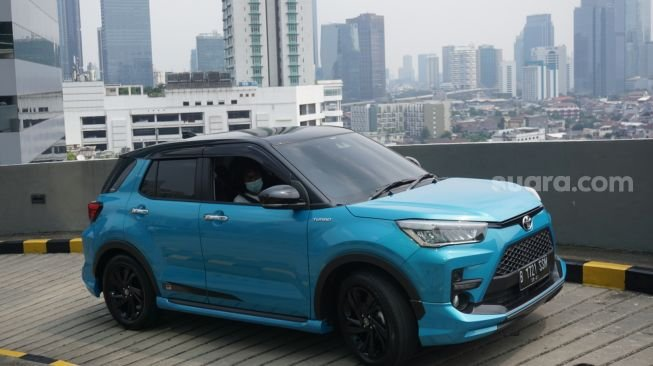mobil: (80, 118, 568, 352)
